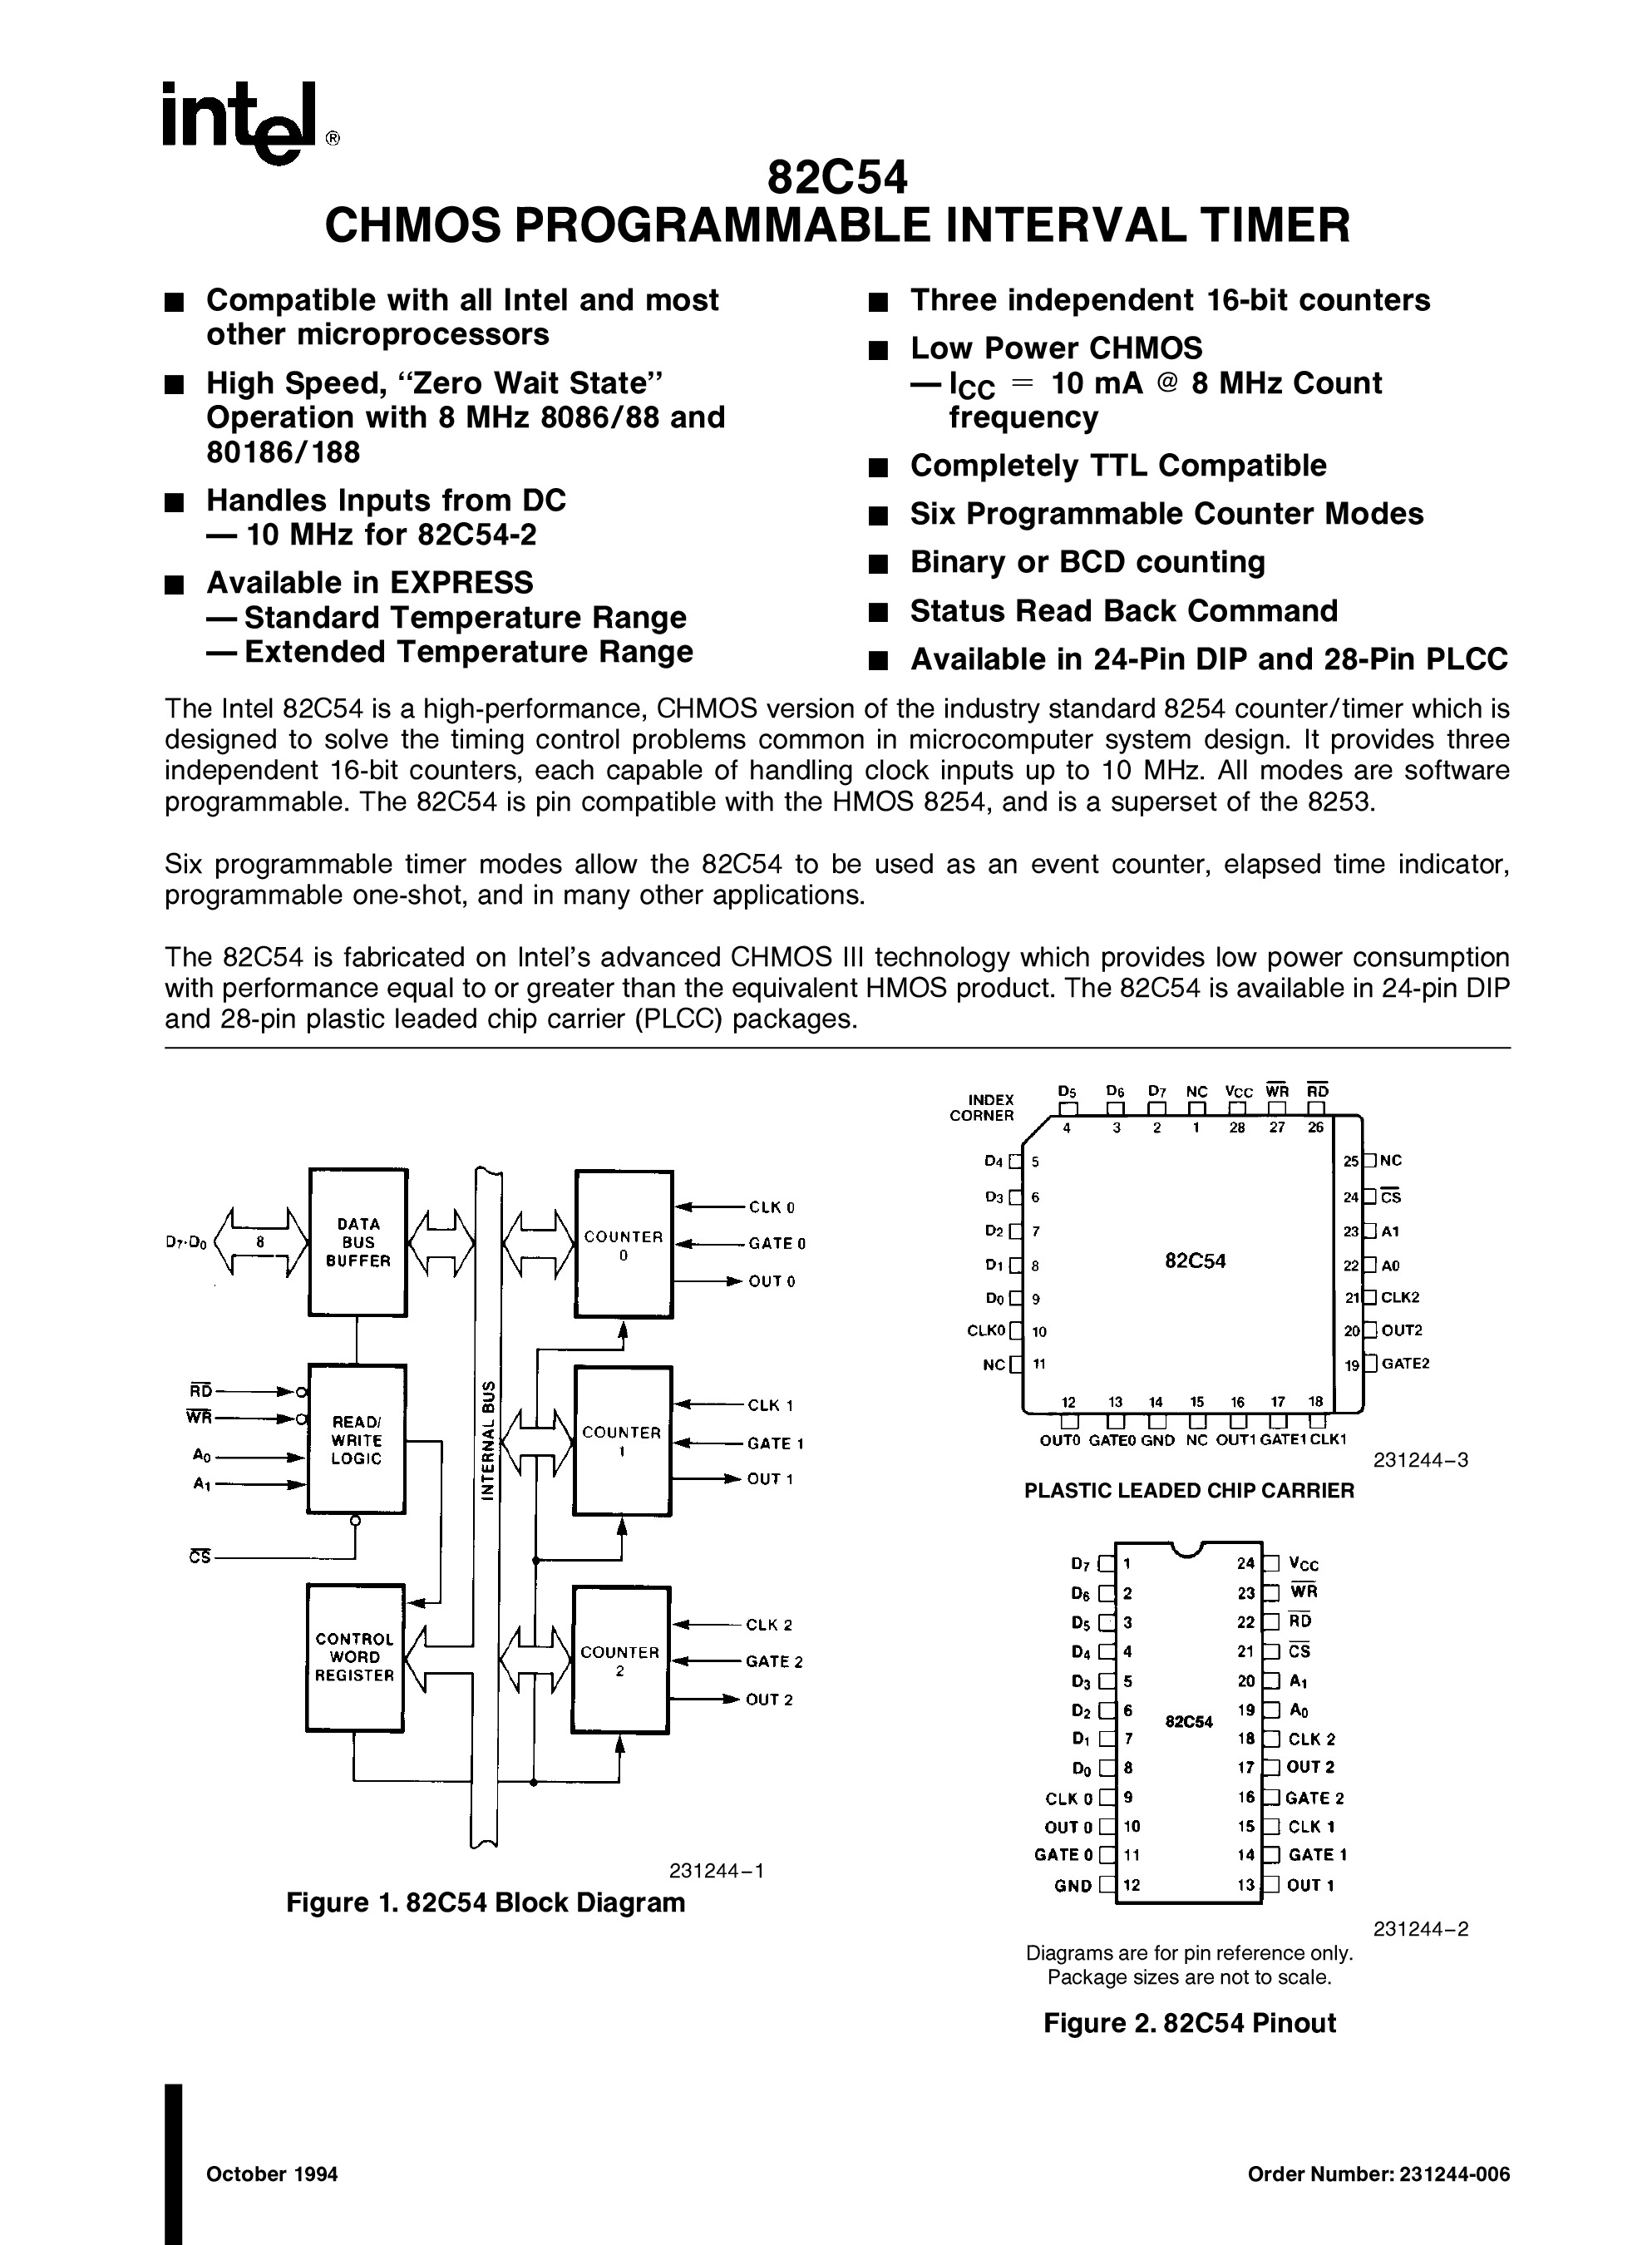caption: (281, 1896, 695, 1921), (1039, 2011, 1349, 2041), (1018, 1480, 1357, 1506)
figure: (171, 1140, 807, 1886), (950, 1088, 1486, 1469), (1021, 1537, 1445, 1985), (1042, 1543, 1352, 1919)
list: (167, 270, 1516, 688), (200, 363, 728, 471), (204, 281, 728, 349), (903, 643, 1513, 687), (924, 376, 1380, 432), (200, 485, 570, 551), (906, 499, 1427, 530), (234, 643, 673, 676), (200, 563, 540, 603), (906, 451, 1338, 481), (910, 600, 1345, 626), (903, 289, 1431, 310), (244, 615, 687, 640), (913, 547, 1265, 577), (903, 340, 1213, 363)
section: (345, 155, 1356, 244), (155, 75, 336, 167)
text: (164, 702, 1520, 811), (164, 943, 1507, 1032), (162, 854, 1500, 906), (1242, 2160, 1513, 2186), (204, 2160, 345, 2189)
